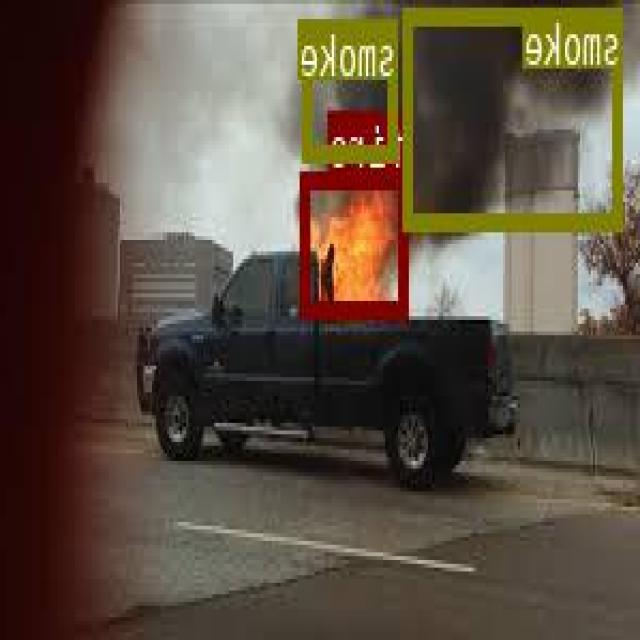fire: (302, 170, 409, 314)
smoke: (405, 7, 624, 227), (306, 18, 399, 158)
